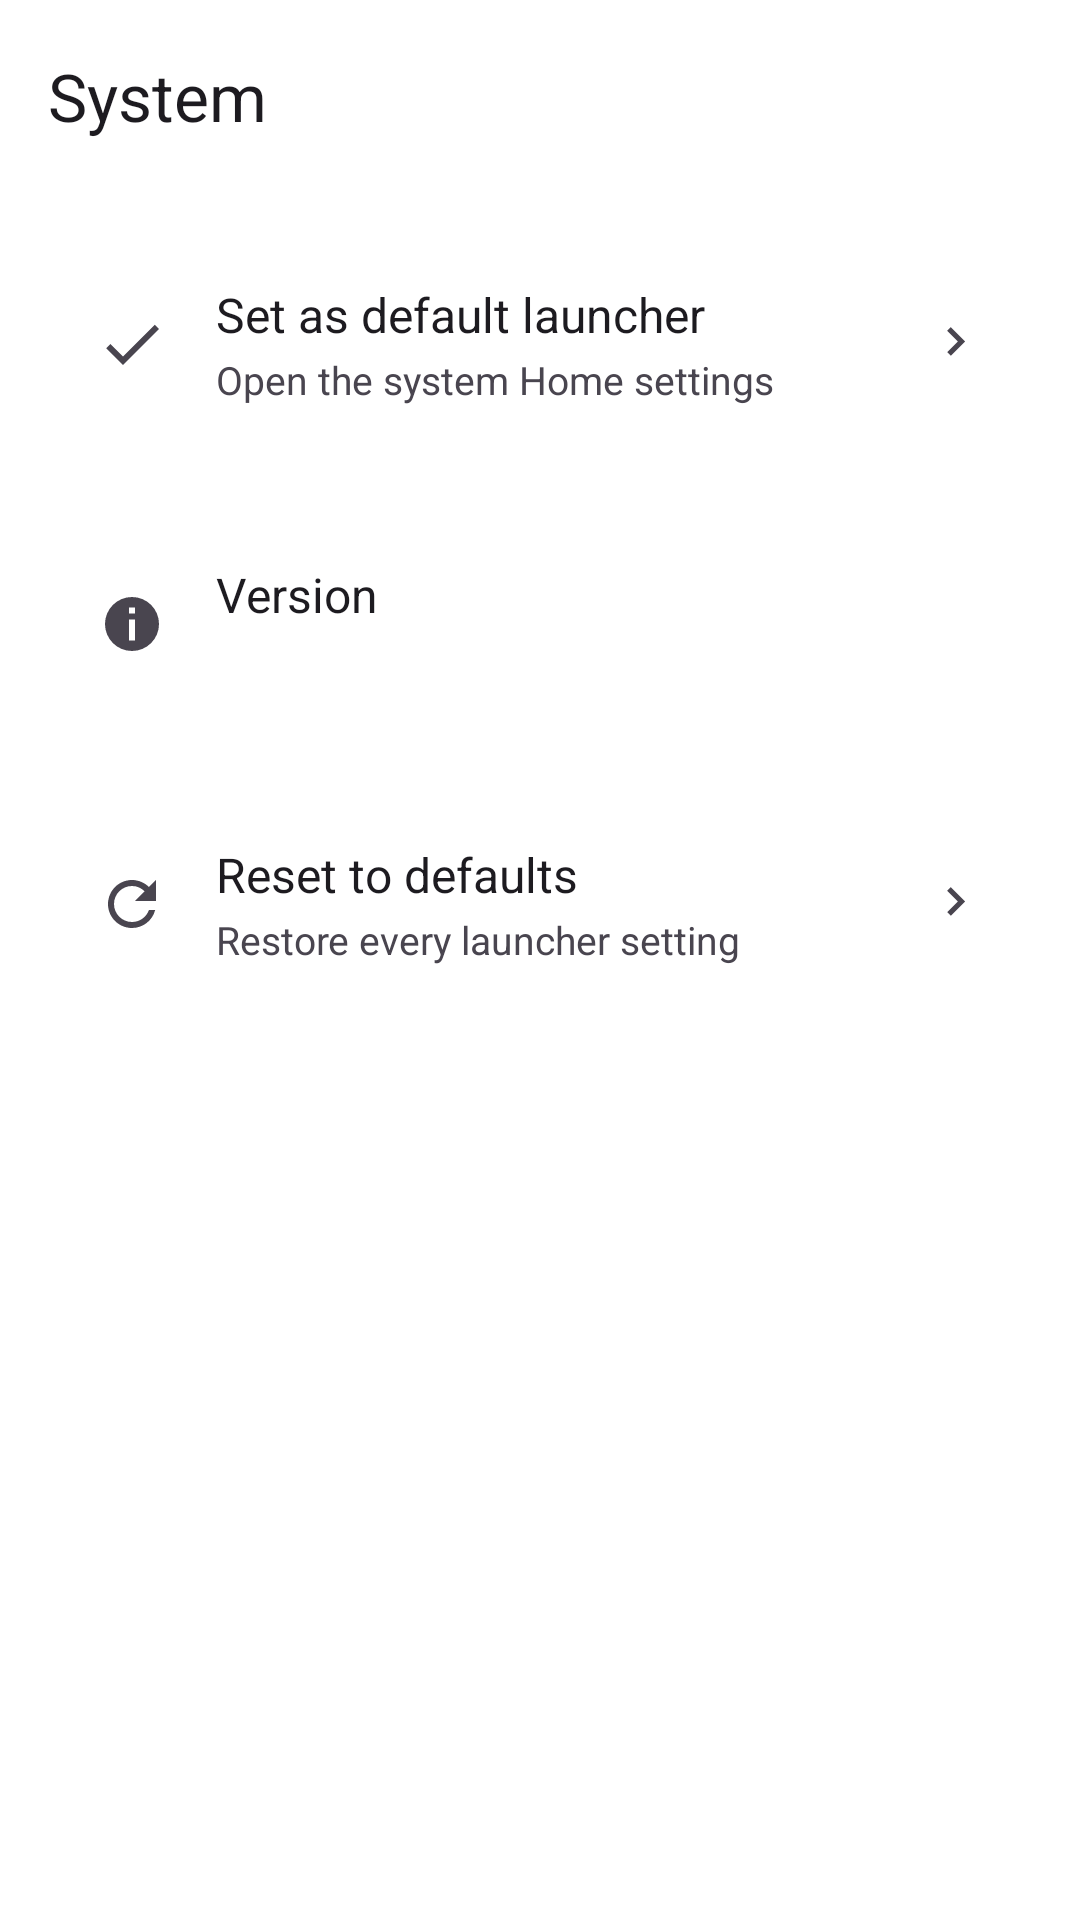

Named icons in this screenshot (1080px×1920px) and their centers, point (x, y):
check: point (132, 345)
chevron right: point (956, 341), point (956, 901)
info: point (132, 624)
